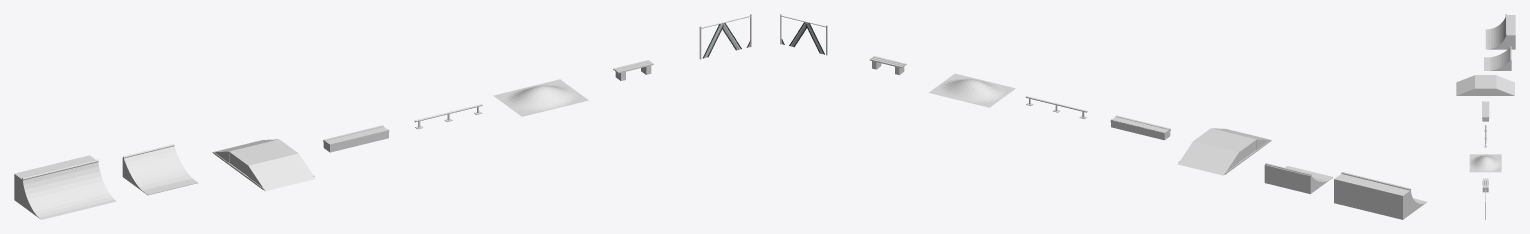
File: SkateProps.fbx
3 views of the same model, side by side, from view 1: azimuth 30°, elevation 25°; view 2: azimuth 150°, elevation 25°; view 3: azimuth 270°, elevation 25° (orthographic). The views are drawn at different scales.
Visible parts, largest first — view 1: QuarterPipe, JumpBox, SkateLaunchRamp, HipBump, GrindBox, ChainLinkFence, SkateBench; view 2: QuarterPipe, JumpBox, HipBump, SkateLaunchRamp, GrindBox, ChainLinkFence, SkateBench; view 3: JumpBox, QuarterPipe, HipBump, SkateLaunchRamp, GrindBox, SkateBench, GrindRail.
Part boxes in pixels (<box>): QuarterPipe: <box>14,155,116,219</box>; JumpBox: <box>212,139,315,191</box>; SkateLaunchRamp: <box>122,144,197,195</box>; HipBump: <box>493,79,588,116</box>; GrindBox: <box>323,125,389,152</box>; ChainLinkFence: <box>699,14,751,59</box>; SkateBench: <box>613,60,653,80</box>; QuarterPipe: <box>1334,172,1427,219</box>; JumpBox: <box>1178,128,1271,175</box>; HipBump: <box>929,73,1015,107</box>; SkateLaunchRamp: <box>1264,163,1333,193</box>; GrindBox: <box>1110,115,1170,140</box>; ChainLinkFence: <box>780,14,827,55</box>; SkateBench: <box>869,56,906,75</box>; JumpBox: <box>1456,75,1514,95</box>; QuarterPipe: <box>1485,14,1515,49</box>; HipBump: <box>1469,154,1501,172</box>; SkateLaunchRamp: <box>1484,46,1511,70</box>; GrindBox: <box>1482,101,1489,121</box>; SkateBench: <box>1482,178,1488,192</box>; GrindRail: <box>1484,125,1486,147</box>.
Bounding box in the file's own units: 16918 × 740 × 2225.
11 materials, 1 textured.
